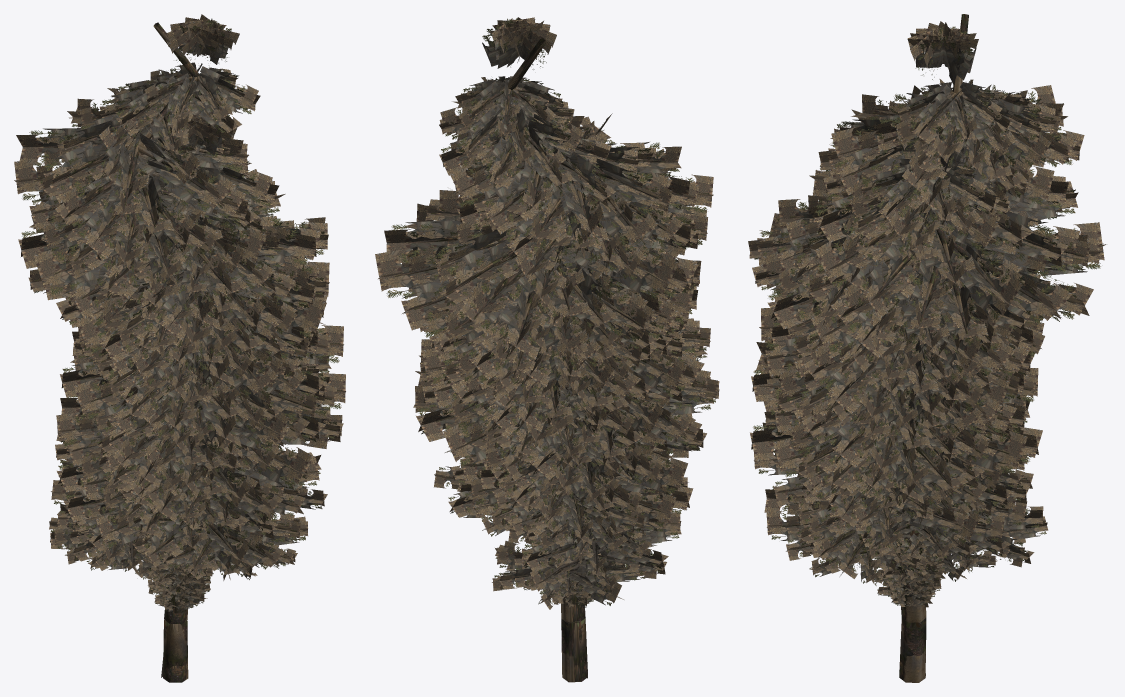
File: pine_tree_01_lod1.glb
3 renders of one model, left to right at view 1: azimuth 30°, elevation 25°; view 2: azimuth 150°, elevation 25°; view 3: azimuth 270°, elevation 25°, orthographic. The views are drawn at different scales.
Visible parts, largest first — view 1: pine_tree_01_a_LOD0_LOD1, pine_tree_01_c_LOD0_LOD1, pine_tree_01_b_LOD0_LOD1; view 2: pine_tree_01_a_LOD0_LOD1, pine_tree_01_c_LOD0_LOD1, pine_tree_01_b_LOD0_LOD1; view 3: pine_tree_01_a_LOD0_LOD1, pine_tree_01_c_LOD0_LOD1, pine_tree_01_b_LOD0_LOD1.
Part boxes in pixels (x1,y1,x2,y2): pine_tree_01_a_LOD0_LOD1: (14, 14, 329, 682); pine_tree_01_c_LOD0_LOD1: (49, 113, 343, 677); pine_tree_01_b_LOD0_LOD1: (60, 219, 345, 613); pine_tree_01_a_LOD0_LOD1: (375, 17, 713, 682); pine_tree_01_c_LOD0_LOD1: (417, 124, 719, 678); pine_tree_01_b_LOD0_LOD1: (413, 253, 710, 622); pine_tree_01_a_LOD0_LOD1: (754, 14, 1106, 682); pine_tree_01_c_LOD0_LOD1: (748, 117, 1048, 675); pine_tree_01_b_LOD0_LOD1: (750, 189, 1044, 610).
Size of the model in its own units: 9.44 by 20.6 by 10.06.
Materials: 4 (4 with a texture image).
